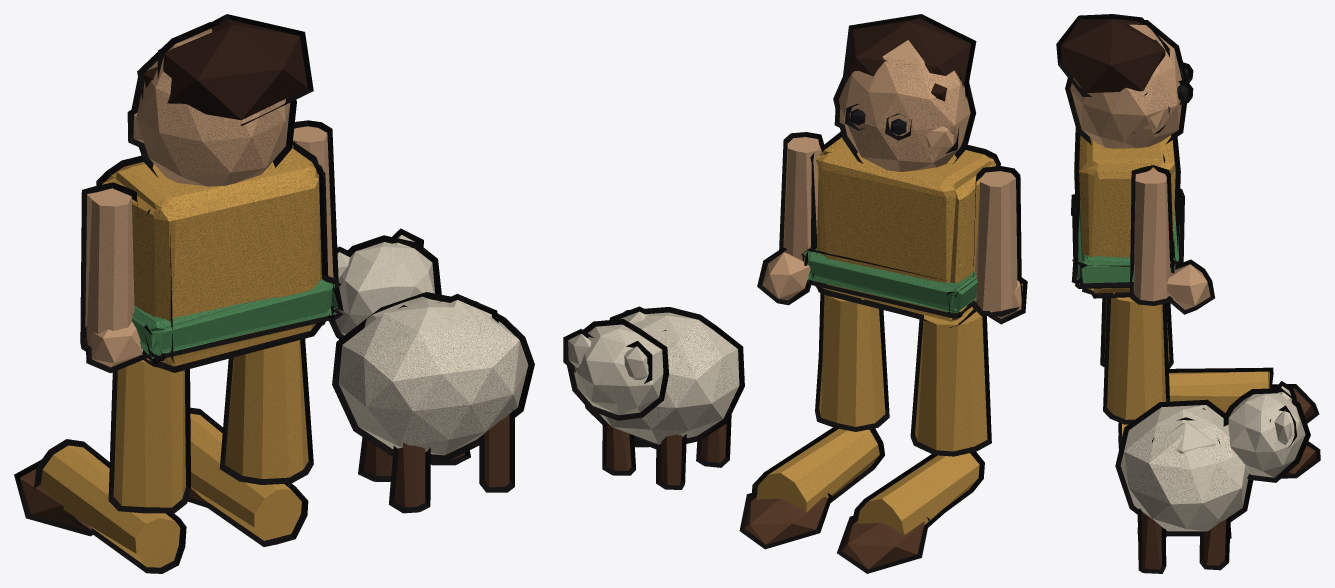
File: david_mentor_v3.glb
3 renders of one model, left to right at view 1: azimuth 30°, elevation 25°; view 2: azimuth 150°, elevation 25°; view 3: azimuth 270°, elevation 25°, orthographic. The views are drawn at different scales.
Visible parts, largest first — view 1: David_Mentor, David_Mentor_Outline; view 2: David_Mentor, David_Mentor_Outline; view 3: David_Mentor, David_Mentor_Outline.
Part boxes in pixels (x1,y1,x2,y2): David_Mentor: (20, 19, 528, 567); David_Mentor_Outline: (14, 14, 534, 573); David_Mentor: (568, 18, 1022, 569); David_Mentor_Outline: (563, 14, 1027, 573); David_Mentor: (1061, 19, 1316, 569); David_Mentor_Outline: (1056, 14, 1320, 573).
Size of the model in its own units: 0.9066 by 1 by 0.5433.
8 materials, 8 textured.
